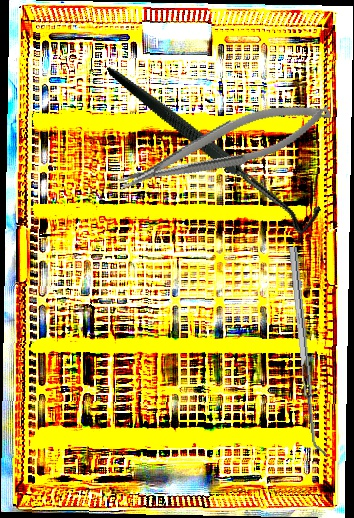Hook Surgical: (106, 10, 327, 280)
Needle Holder: (110, 90, 338, 201)
Spatula Surgical: (289, 245, 327, 458)
